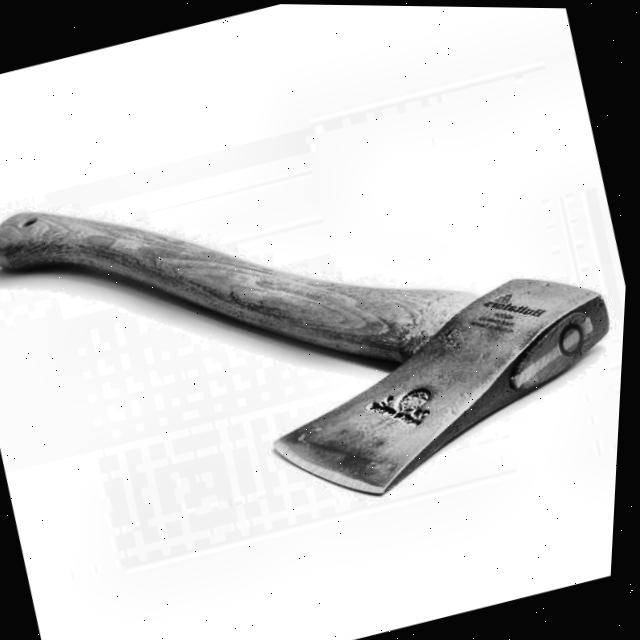kapak: (0, 53, 637, 596)
